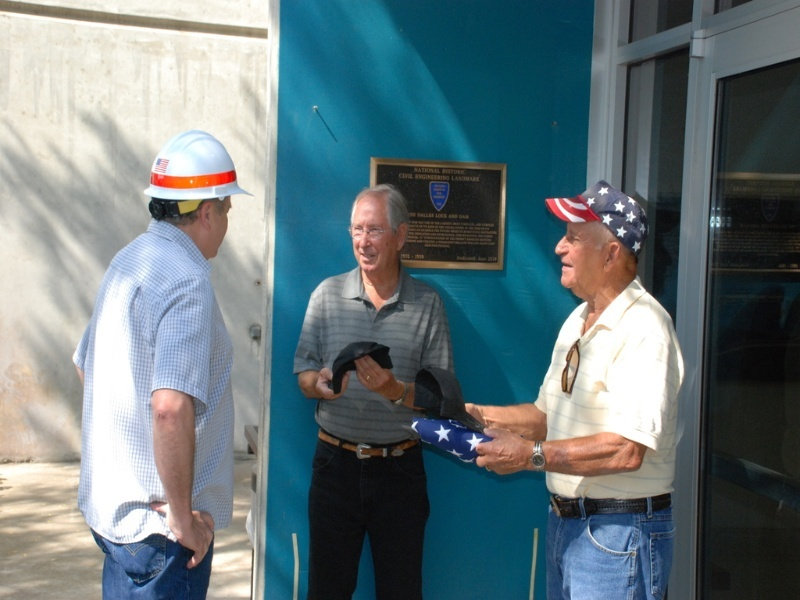Baret: (142, 126, 262, 202)
